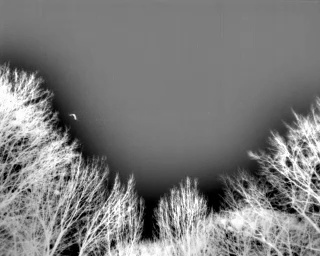BIRD: (69, 111, 79, 123)
